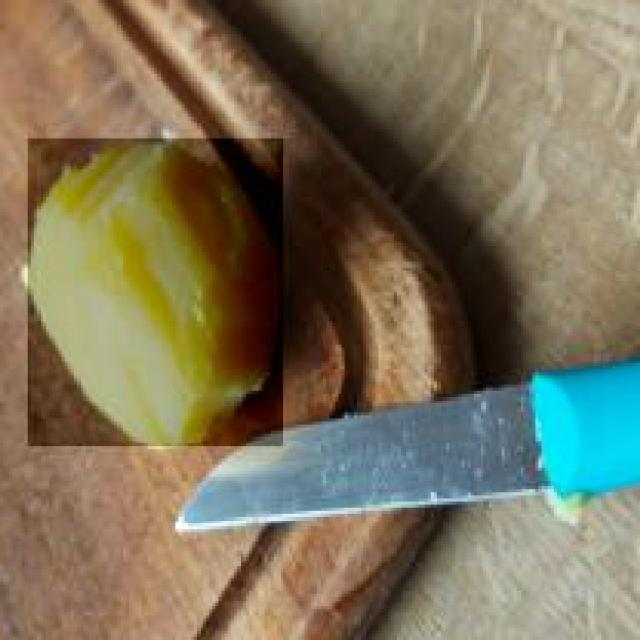butter: (24, 138, 285, 450)
